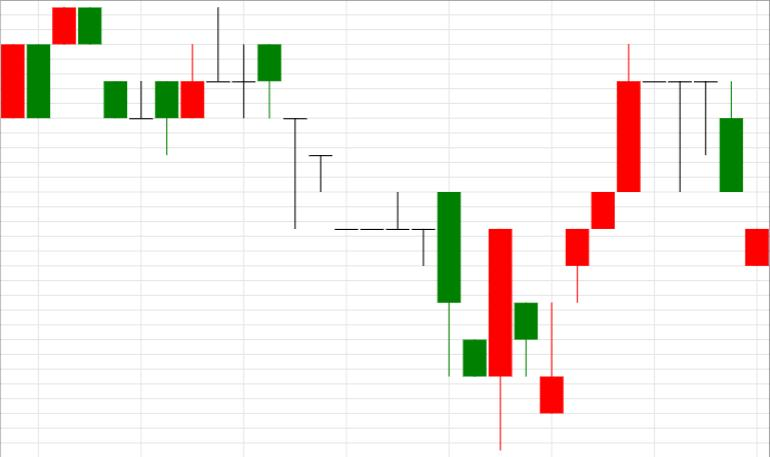bullish_engulfing_rise: (258, 44, 512, 450)
